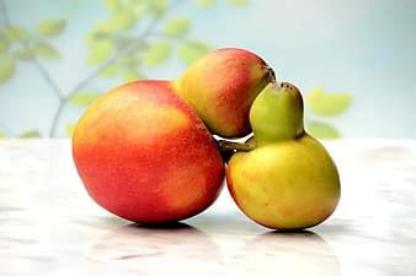defect: (152, 13, 268, 148), (247, 71, 320, 181)
